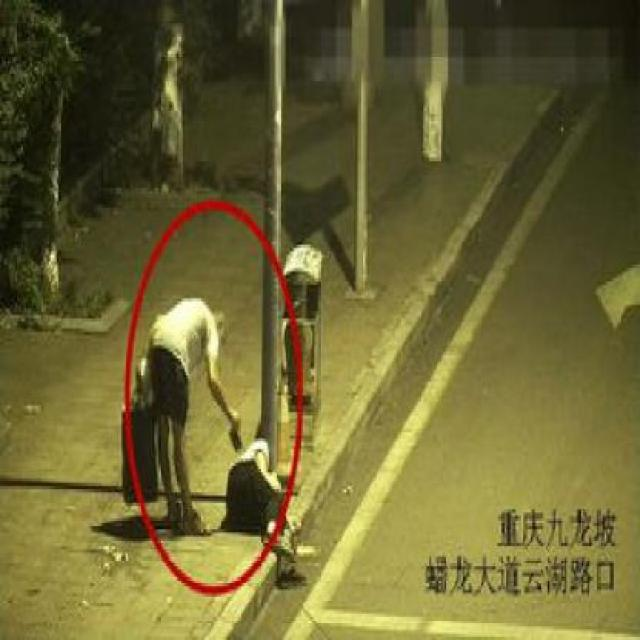fall: (194, 412, 317, 572)
